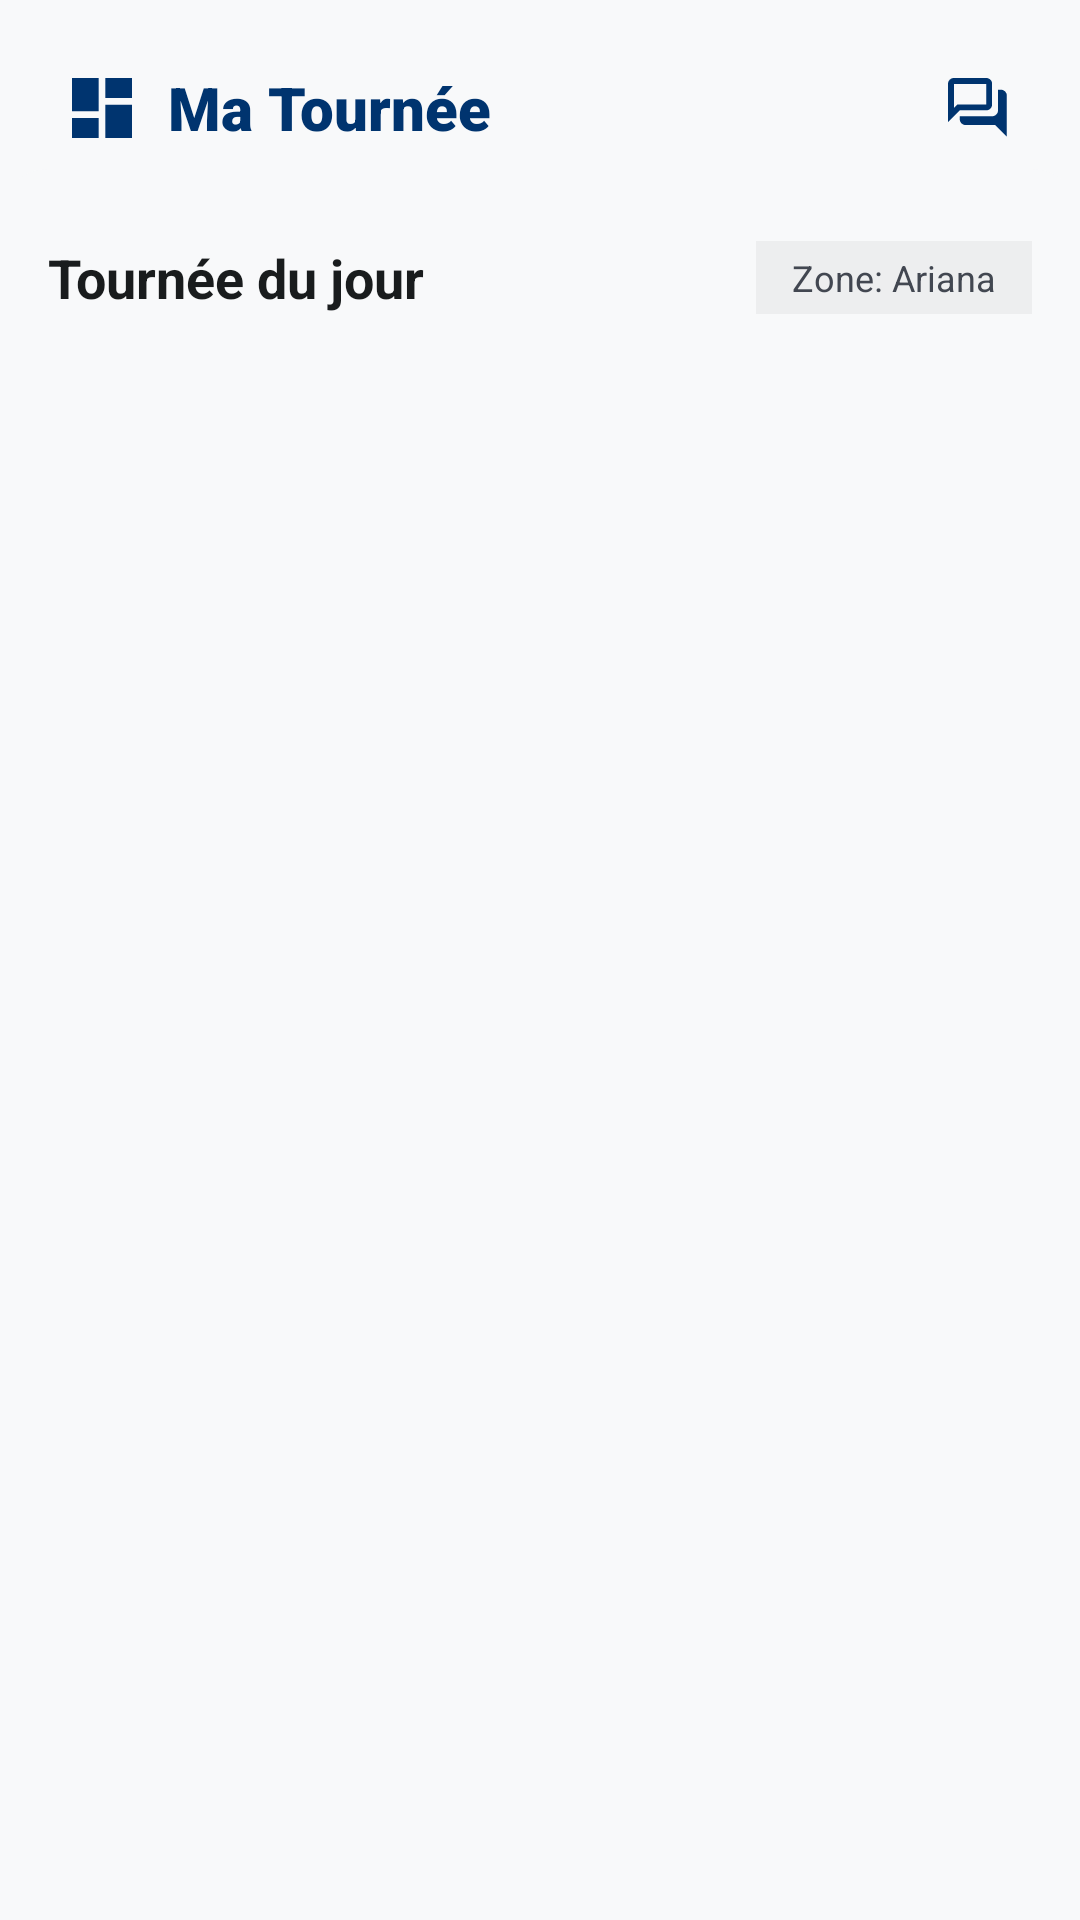

Icons on this 1080×1920 Android screen, each with the point to tap as [x,y]:
dashboard: [102,108]
messages: [977,107]
